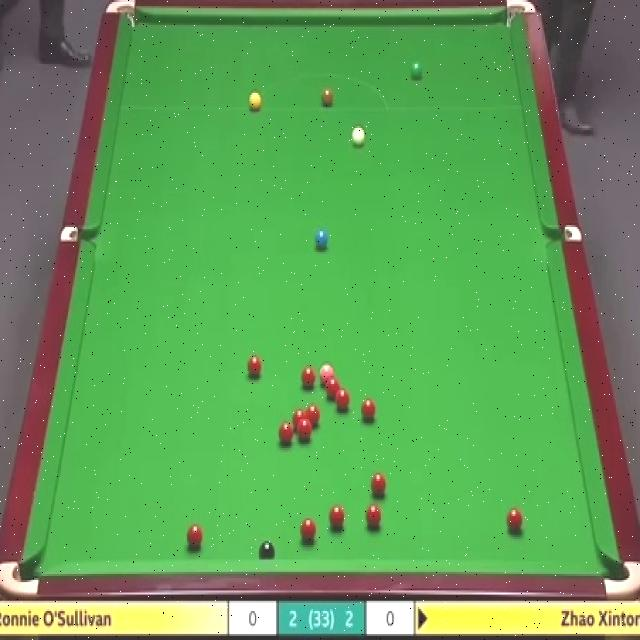black-ball: (260, 540, 278, 559)
blue-ball: (314, 230, 329, 248)
brown-ball: (321, 88, 335, 112)
green-ball: (410, 60, 423, 76)
pink-ball: (319, 364, 334, 384)
red-ball: (185, 523, 203, 549), (329, 502, 345, 530), (305, 404, 322, 430), (506, 506, 523, 532), (371, 472, 387, 499), (277, 421, 294, 446), (300, 518, 317, 543), (366, 504, 382, 528), (298, 419, 312, 442), (248, 355, 261, 379), (360, 400, 376, 419), (300, 366, 314, 386), (326, 376, 340, 396), (292, 410, 306, 429), (336, 390, 348, 412)
white-ball: (351, 126, 365, 147)
yellow-ball: (249, 91, 261, 112)
